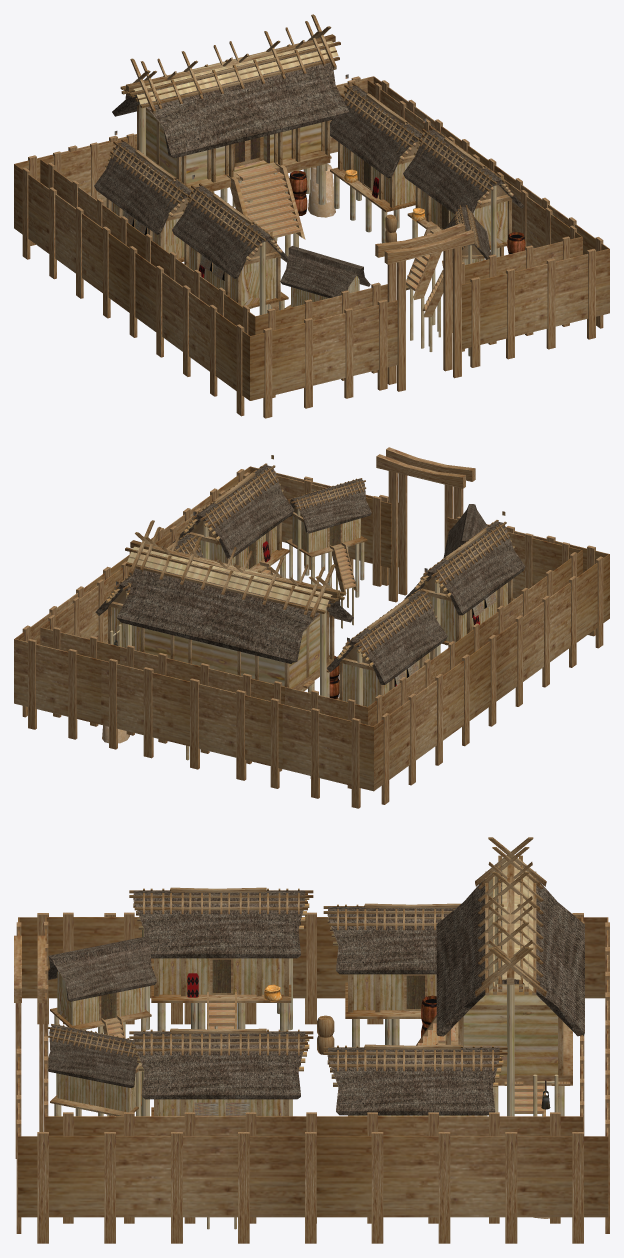
File: yayoi_wonder.dae
3 views of the same model, one above another, from view 1: azimuth 30°, elevation 25°; view 2: azimuth 150°, elevation 25°; view 3: azimuth 270°, elevation 25° (orthographic). The views are drawn at different scales.
Visible parts, largest first — view 1: wonder_002; view 2: wonder_002; view 3: wonder_002.
Part boxes in pixels (left/top/right/bottom): wonder_002: left=14, top=14, right=609, bottom=418; wonder_002: left=14, top=447, right=609, bottom=808; wonder_002: left=14, top=837, right=609, bottom=1243.
Bounding box in the file's own units: 41.97 × 47.86 × 25.87.
1 material, 1 textured.
